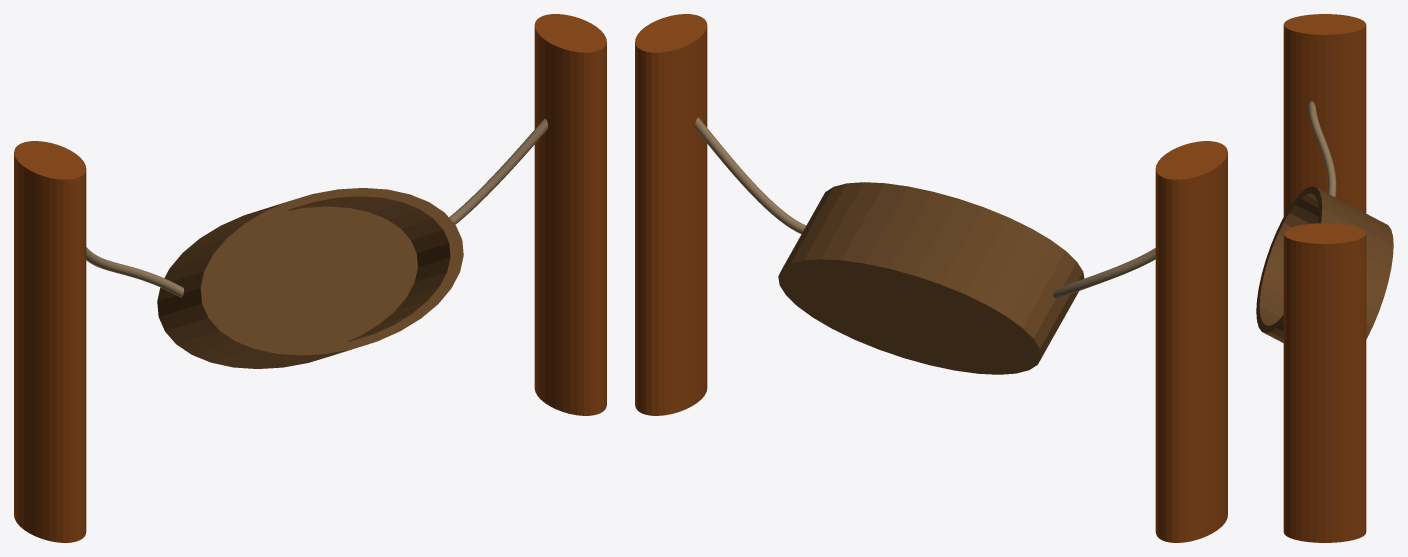
File: slingshot.glb
3 renders of one model, left to right at view 1: azimuth 30°, elevation 25°; view 2: azimuth 150°, elevation 25°; view 3: azimuth 270°, elevation 25°, orthographic. The views are drawn at different scales.
Parts seen in each view (by area): view 1: Cylinder.002, Cylinder.001, Cylinder, NurbsPath, NurbsPath.001; view 2: Cylinder.002, Cylinder.001, Cylinder, NurbsPath, NurbsPath.001; view 3: Cylinder, Cylinder.001, Cylinder.002, NurbsPath.001.
Boxes of the visible parts, x1,y1,x2,y2 form: Cylinder.002: (157,188,463,368); Cylinder.001: (14,141,86,542); Cylinder: (534,14,606,415); NurbsPath: (449,118,547,224); NurbsPath.001: (86,247,183,297); Cylinder.002: (778,182,1084,374); Cylinder.001: (1155,141,1227,542); Cylinder: (635,14,707,415); NurbsPath: (695,117,806,233); NurbsPath.001: (1053,248,1155,299); Cylinder: (1283,223,1366,542); Cylinder.001: (1283,14,1366,216); Cylinder.002: (1256,186,1393,342); NurbsPath.001: (1308,101,1336,197).
Size of the model in its own units: 6.6 by 4 by 1.67.
